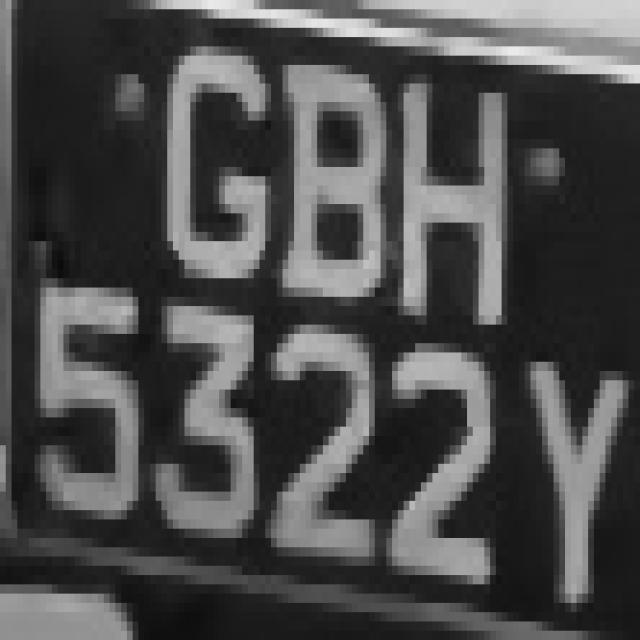2: (381, 324, 513, 630), (277, 297, 386, 584)
3: (150, 260, 259, 584)
5: (11, 241, 156, 575)
B: (271, 28, 392, 362)
G: (144, 37, 271, 306)
H: (386, 46, 519, 352)
Y: (513, 288, 623, 622)
